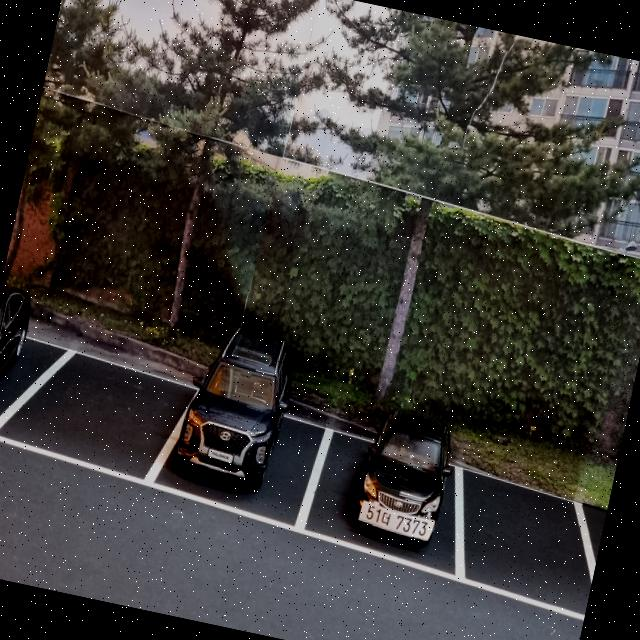empty: (0, 342, 193, 496), (428, 460, 610, 623)
occupied: (168, 303, 306, 496), (335, 370, 471, 550)
